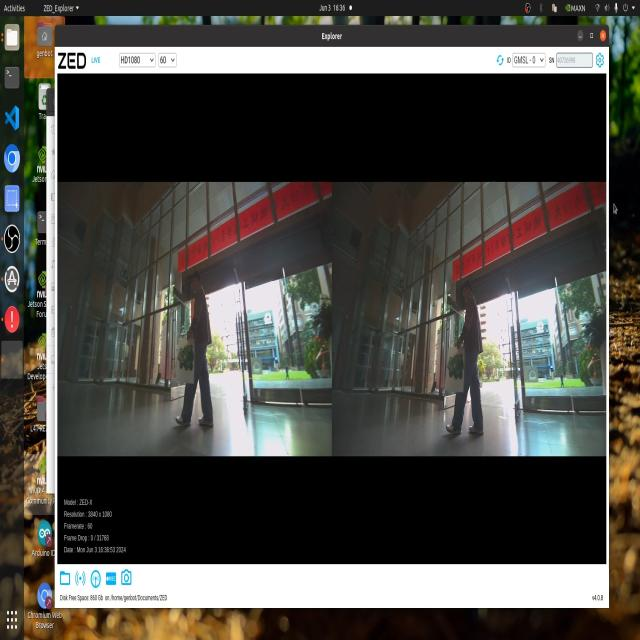green: (452, 352, 469, 385), (178, 346, 195, 375)
